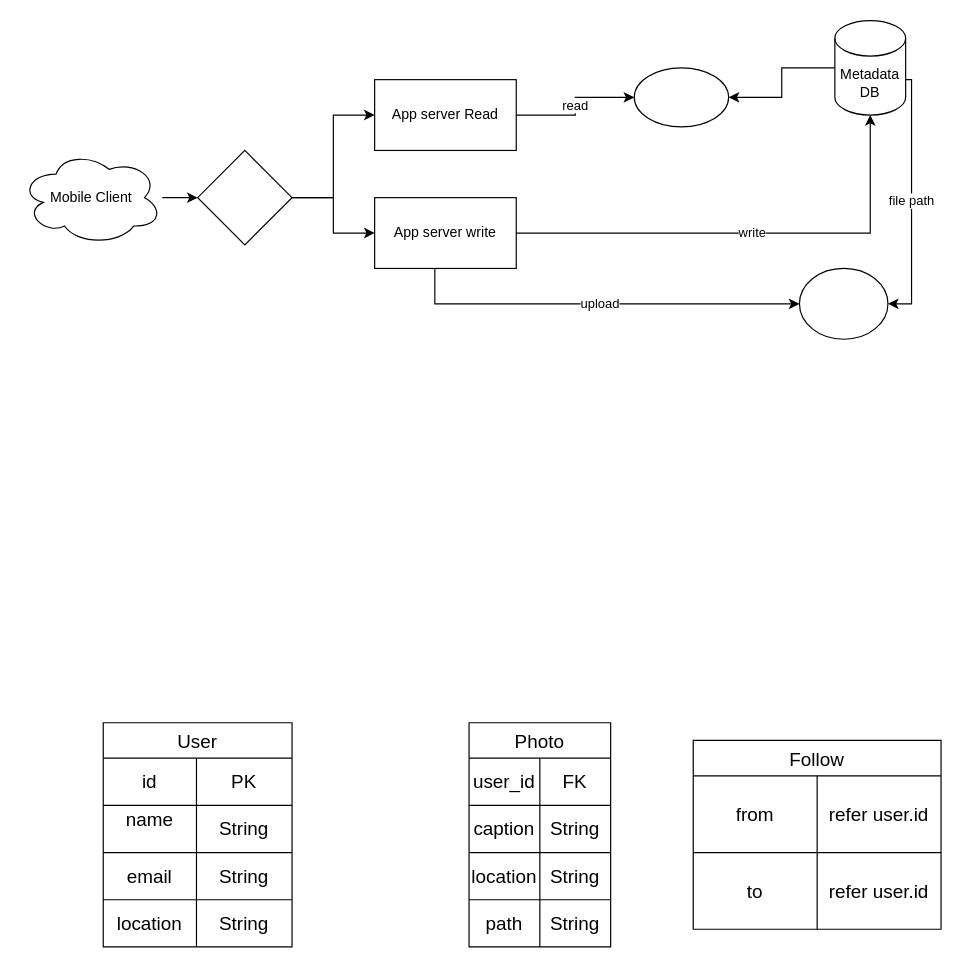
The diagram is 962 pixels wide and 968 high, and some of its shapes have lost their labels. Here are the shapes that lost their labels. From the top down, the centre of each, then its label:
At pixel 681 97: "Cache (Redis)".
At pixel 244 197: "Load Balancer".
At pixel 843 303: "AWS S3".
